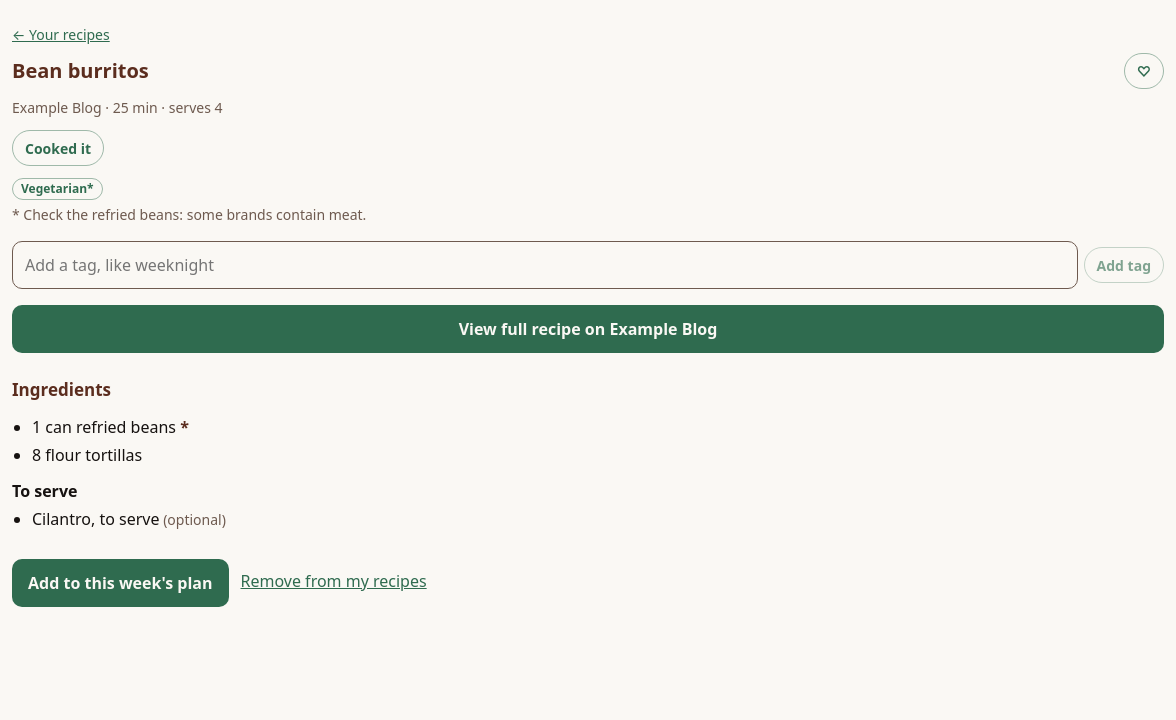
Test case: RecipePage › hearts the recipe and keeps how often it comes back (TYL-66)
Click the button named "Favorite Bean burritos". click: [1144, 71]
box: [1124,53,1164,89]
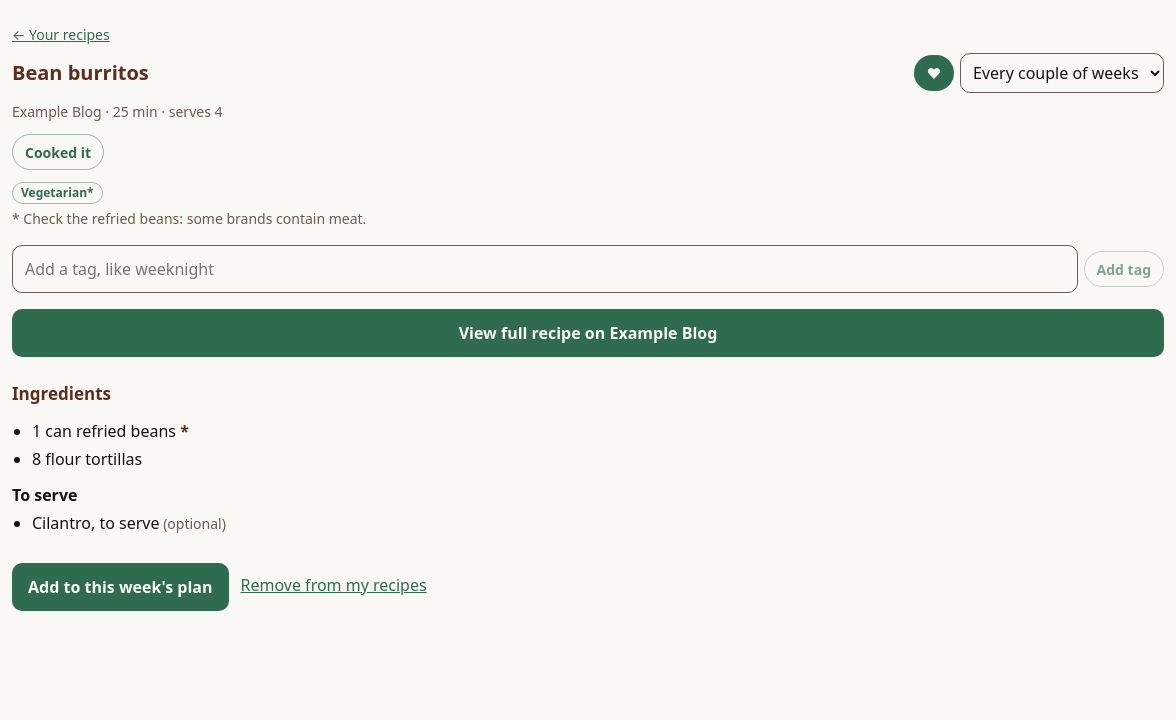
Now the dropdown named "How often Bean burritos comes back" shows "Every couple of weeks", box [960,53,1164,93]
